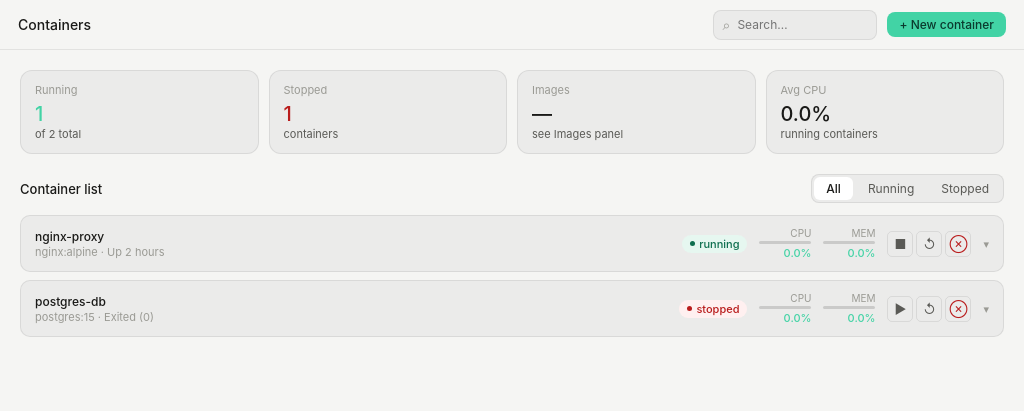
Test: Containers › expands log drawer on row click
Click the text "nginx-proxy". click: [70, 236]
box: [35,228,104,244]
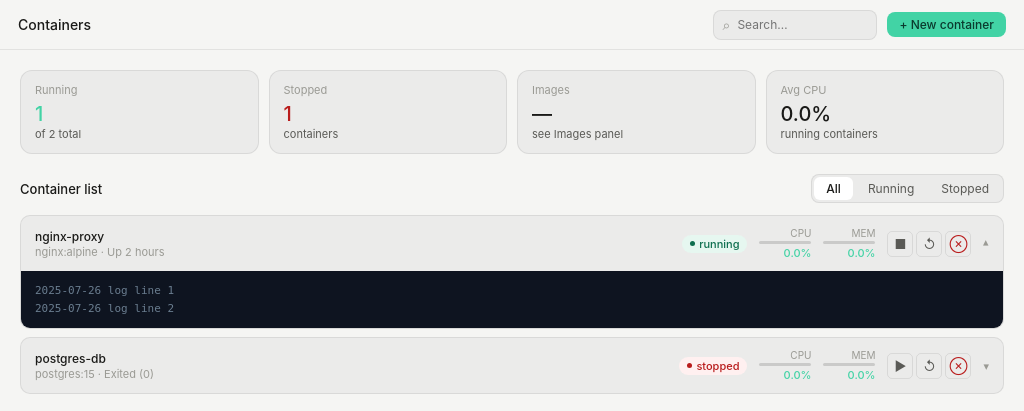
Expected: the text "2025-07-26 log line 1 2025-07-26 log line 2" is shown, [21,271,1003,328]
